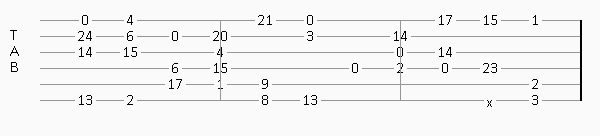0: (81, 13, 93, 27), (171, 29, 183, 43), (306, 13, 318, 27), (351, 61, 363, 75), (396, 45, 408, 59), (441, 61, 453, 75)
1: (216, 77, 228, 91), (531, 13, 543, 27)
13: (77, 93, 97, 107), (302, 93, 322, 107)
14: (77, 45, 97, 59), (392, 29, 412, 43), (437, 45, 457, 59)
15: (122, 45, 142, 59), (212, 61, 232, 75), (482, 13, 502, 27)
17: (167, 77, 187, 91), (437, 13, 457, 27)
2: (126, 93, 138, 107), (396, 61, 408, 75), (531, 77, 543, 91)
20: (212, 29, 232, 43)
21: (257, 13, 277, 27)
23: (482, 61, 502, 75)
24: (77, 29, 97, 43)
3: (306, 29, 318, 43), (531, 93, 543, 107)
4: (126, 13, 138, 27), (216, 45, 228, 59)
6: (126, 29, 138, 43), (171, 61, 183, 75)
8: (261, 93, 273, 107)
9: (261, 77, 273, 91)
x: (486, 95, 497, 106)
